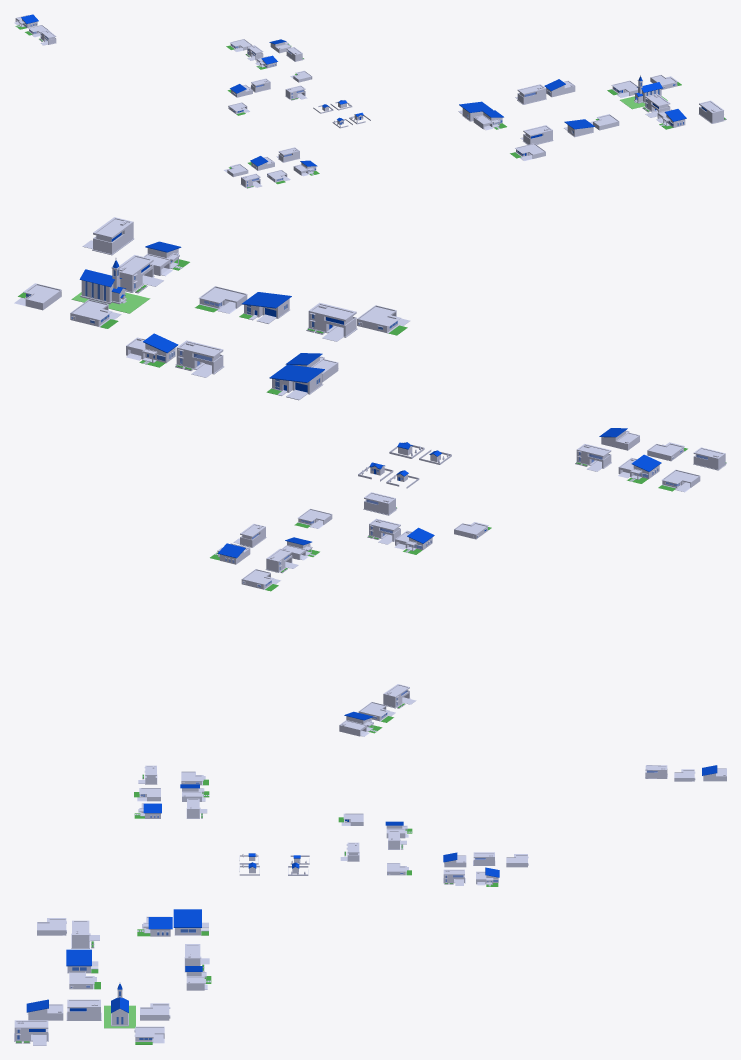
File: Houses.glb
3 views of the same model, one above another, from view 1: azimuth 30°, elevation 25°; view 2: azimuth 150°, elevation 25°; view 3: azimuth 270°, elevation 25° (orthographic). The views are drawn at different scales.
Parts seen in each view (by area): view 1: Chruch, House.027, House.022, House.020, House.025, House.024, House.029, House.023, House.021, House.031, House.028, House.026 (+2 smaller); view 2: Chruch, House.027, House.031, House.020, House.029, House.028, House.021, House.024, House.023, House.025, House.019, House.026 (+2 smaller); view 3: Chruch, House.031, House.029, House.024, House.021, House.025, House.022, House.027, House.030, House.028, House.019, House.026 (+2 smaller).
Part boxes in pixels (box(x1,y1,x2,y2)): Chruch: box(620, 75, 667, 109); House.027: box(520, 125, 553, 144); House.022: box(473, 110, 506, 130); House.020: box(515, 84, 546, 104); House.025: box(656, 109, 686, 129); House.024: box(642, 93, 670, 117); House.029: box(699, 100, 726, 123); House.023: box(510, 143, 545, 160); House.021: box(564, 119, 594, 137); House.031: box(458, 101, 492, 121); House.028: box(544, 79, 575, 97); House.026: box(607, 80, 638, 97); Chruch: box(71, 258, 150, 313); House.027: box(306, 302, 357, 341); House.031: box(266, 364, 324, 400); House.020: box(175, 340, 224, 377); House.029: box(82, 217, 134, 255); House.028: box(126, 333, 178, 367); House.021: box(239, 292, 291, 323); House.024: box(119, 255, 163, 293); House.023: box(357, 305, 410, 335); House.025: box(143, 241, 189, 276); House.019: box(195, 286, 247, 313); House.026: box(70, 299, 121, 328); Chruch: box(104, 982, 135, 1028); House.031: box(173, 909, 208, 935); House.029: box(14, 1020, 48, 1045); House.024: box(66, 999, 101, 1020); House.021: box(66, 949, 98, 973); House.025: box(26, 999, 63, 1020); House.022: box(137, 916, 172, 936); House.027: box(71, 920, 99, 948); House.030: box(134, 1026, 164, 1044); House.028: box(185, 966, 211, 990); House.019: box(69, 971, 100, 989); House.026: box(140, 1003, 170, 1020).
Size of the model in its own units: 103 by 5.85 by 112.
